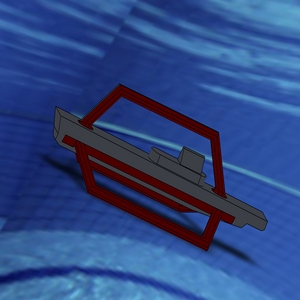submarine: (43, 65, 276, 258)
